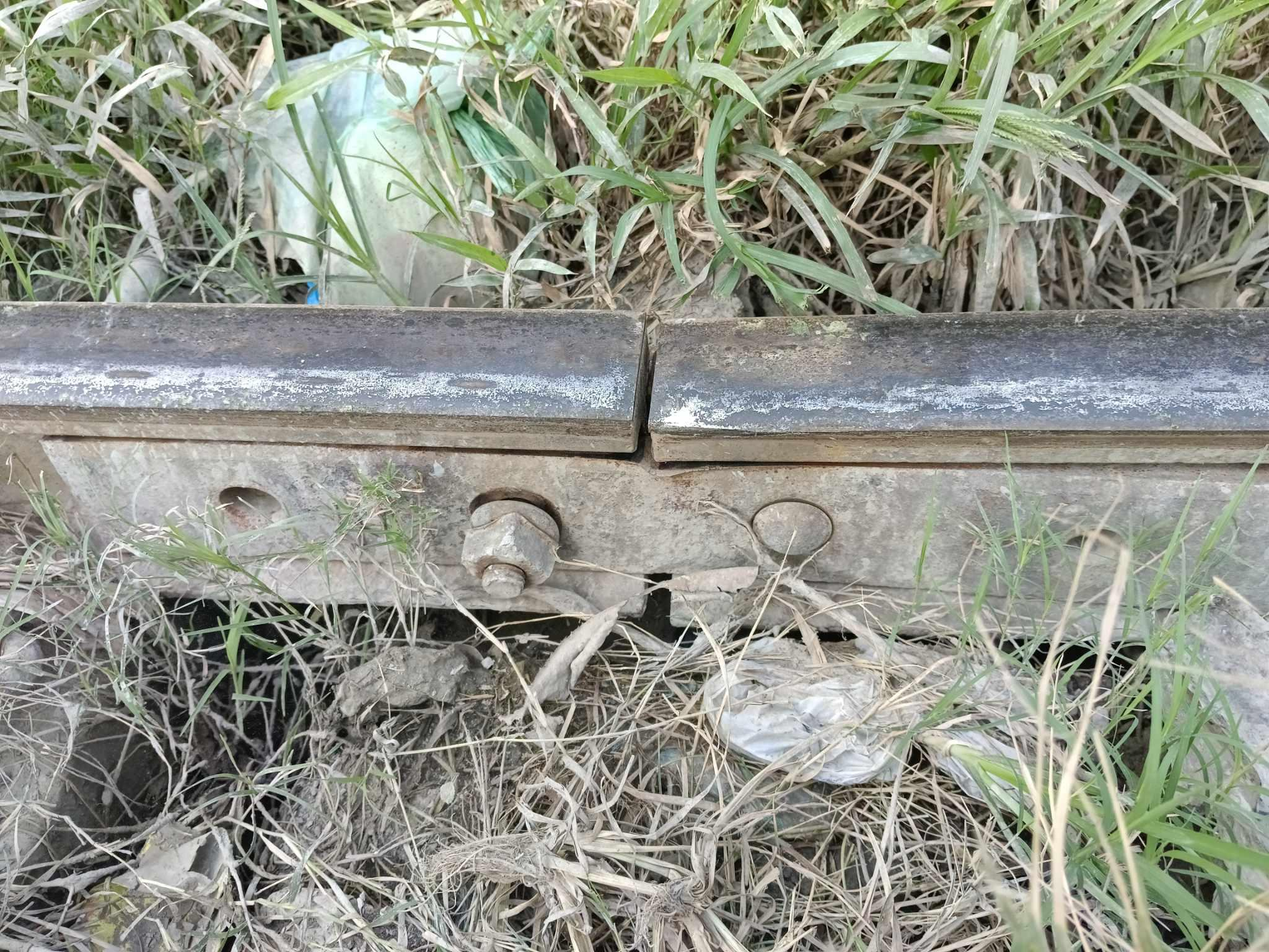railway-gap: (519, 274, 771, 494)
